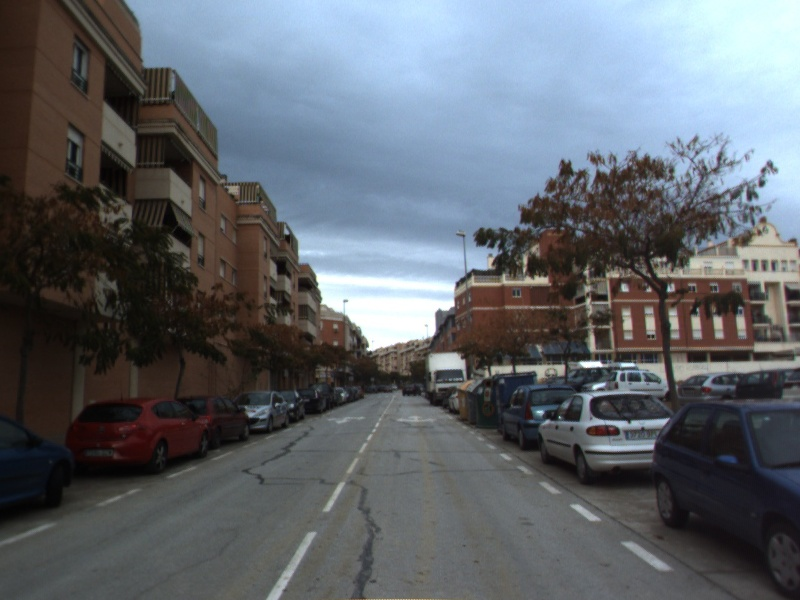STRAIGHT_LEFT_RIGHT: (394, 412, 439, 425)
